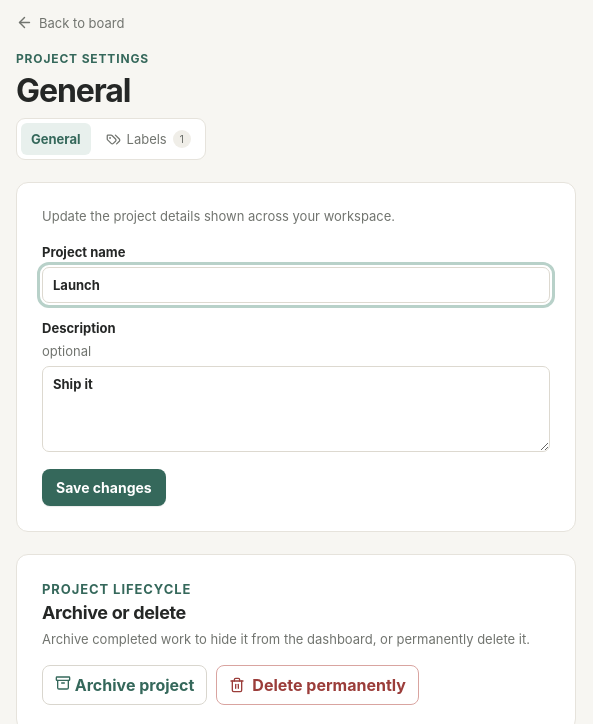
ProjectSettingsPage label mutations › restores the old label name when a rename fails
This screenshot has width=593, height=724.
Click the button "Labels 1" at (148, 139), box [96,123,201,155]
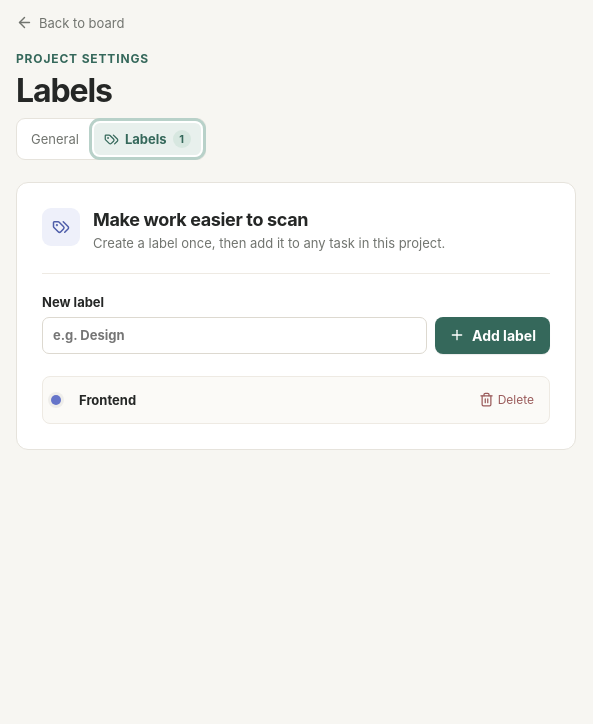
Replace the text in the field named "Rename Frontend" with "UI" at (266, 400), box [71,385,462,415]
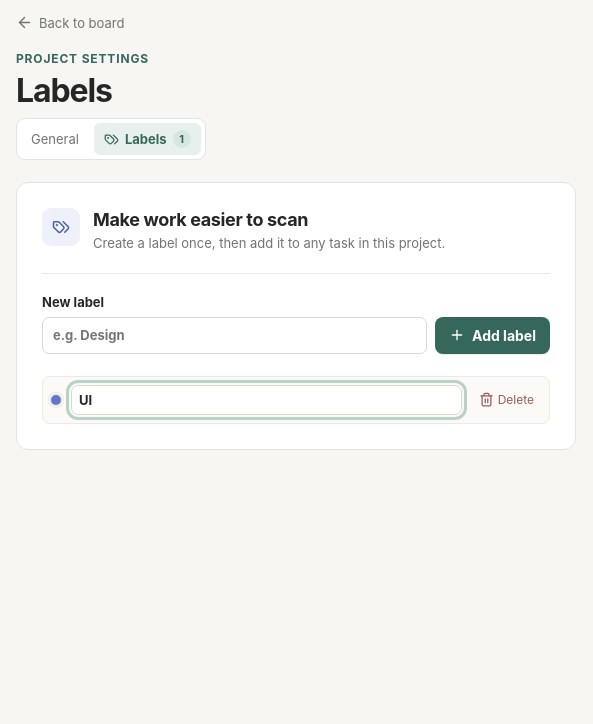
Press Tab
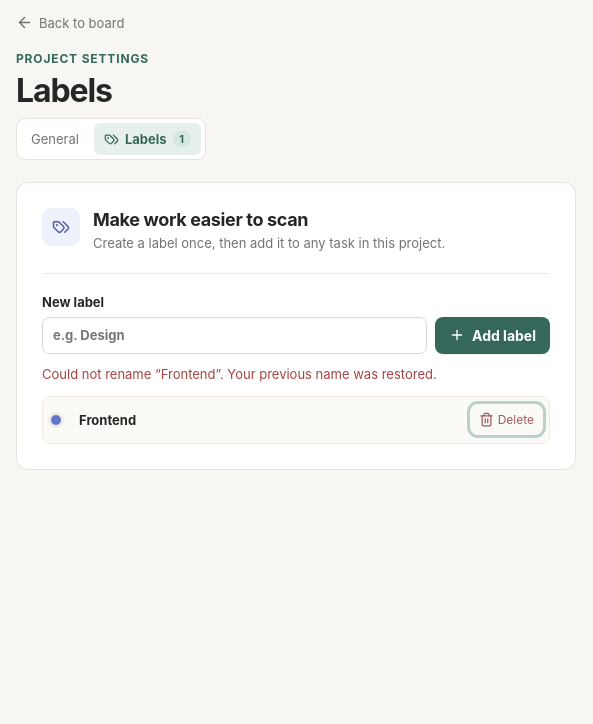
Expected: the message shows "previous name was restored", [42,366,437,382]
Expected: the field named "Rename Frontend" holds "Frontend", [71,405,462,435]
